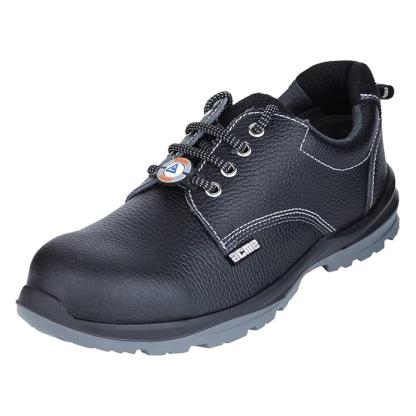bota: (12, 55, 403, 358)
